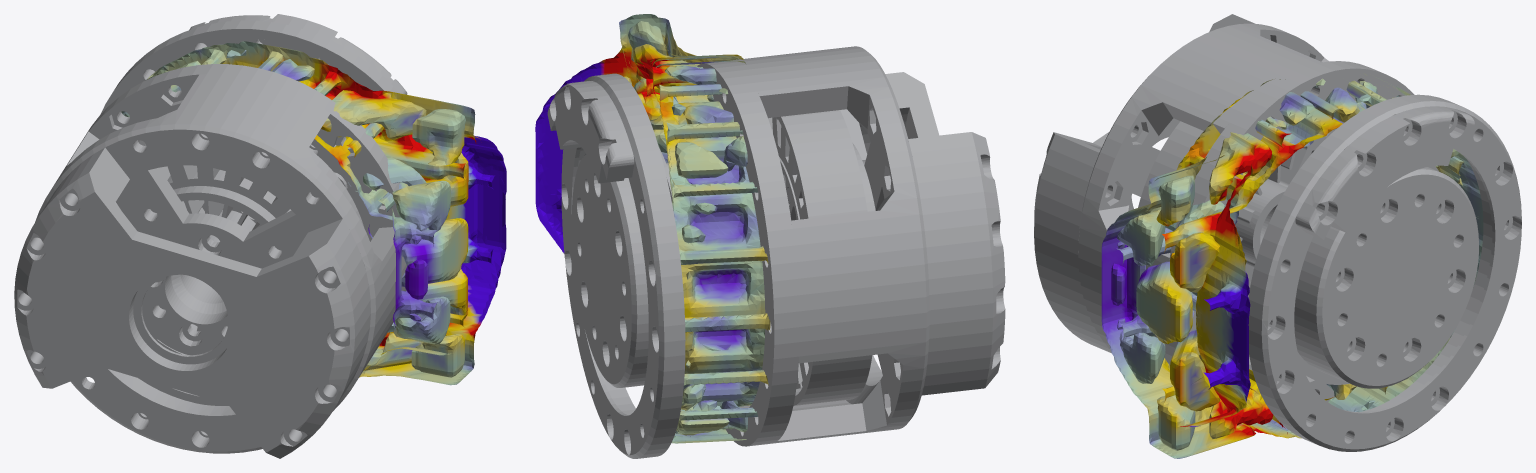
The model's file is leg_right_hip_roll_opt.glb.
The picture shows the model from 3 angles, left to right: view 1: azimuth 30°, elevation 25°; view 2: azimuth 150°, elevation 25°; view 3: azimuth 270°, elevation 25°; orthographic projection. The views are drawn at different scales.
Parts seen in each view (by area): view 1: leg_right_hip_roll_visual.stl; view 2: leg_right_hip_roll_visual.stl; view 3: leg_right_hip_roll_visual.stl.
Part boxes in pixels (x1,y1,x2,y2): leg_right_hip_roll_visual.stl: (14,14,506,458); leg_right_hip_roll_visual.stl: (535,14,1005,458); leg_right_hip_roll_visual.stl: (1034,14,1521,458).
Bounding box in the file's own units: 0.1294 × 0.088 × 0.1167.
